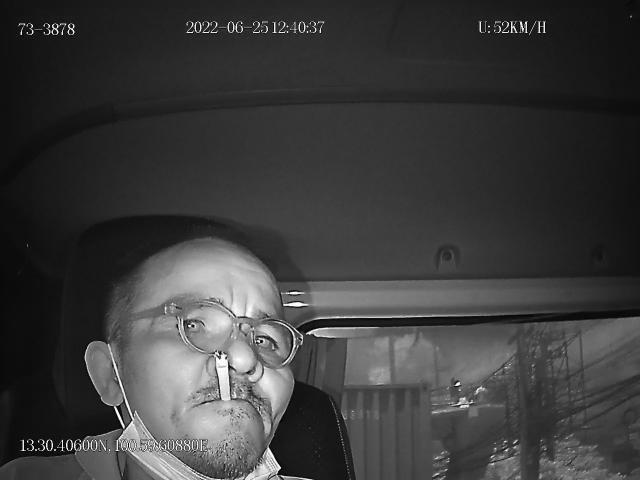SafeDriving: (178, 307, 210, 339)
Smoking: (212, 348, 234, 402)
